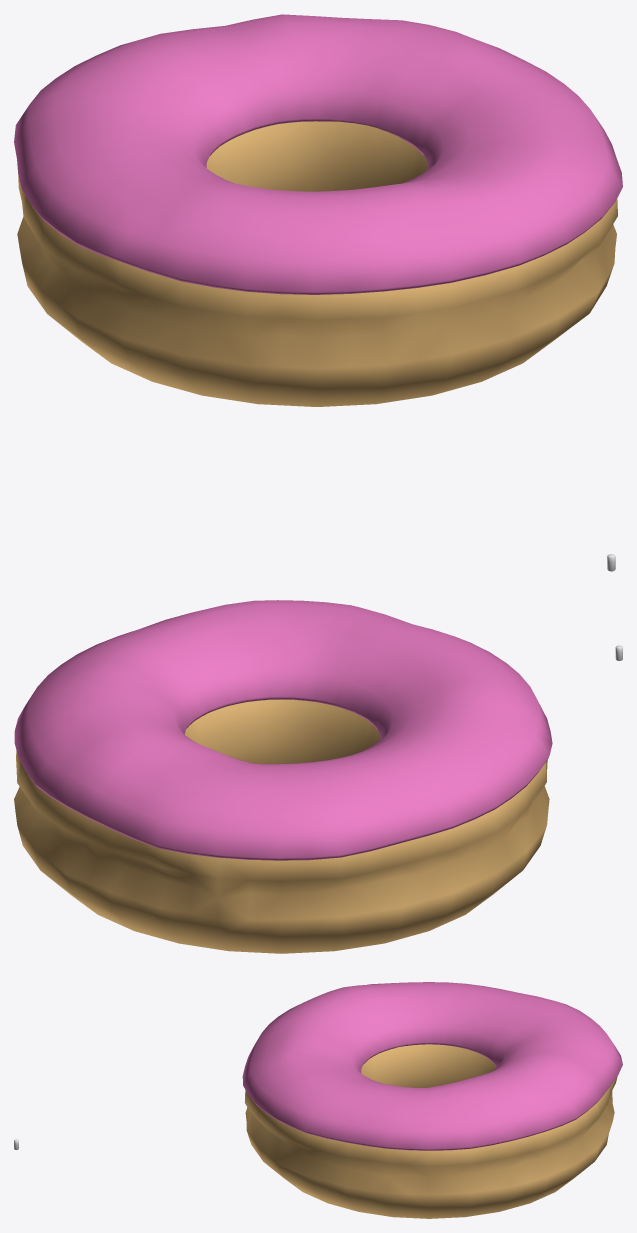
The model's file is donut.dae.
The picture shows the model from 3 angles, top to bottom: view 1: azimuth 30°, elevation 25°; view 2: azimuth 150°, elevation 25°; view 3: azimuth 270°, elevation 25°; orthographic projection. The views are drawn at different scales.
Visible parts, largest first — view 1: OG ice, OG nut; view 2: OG ice, OG nut; view 3: OG ice, OG nut.
Boxes of the visible parts, x1=… form: OG ice: x1=14, y1=14, x2=622, y2=294; OG nut: x1=17, y1=121, x2=617, y2=406; OG ice: x1=14, y1=600, x2=552, y2=860; OG nut: x1=14, y1=699, x2=549, y2=953; OG ice: x1=242, y1=982, x2=622, y2=1150; OG nut: x1=244, y1=1044, x2=617, y2=1218.
Size of the model in its own units: 0.1463 by 0.2417 by 0.0553.
